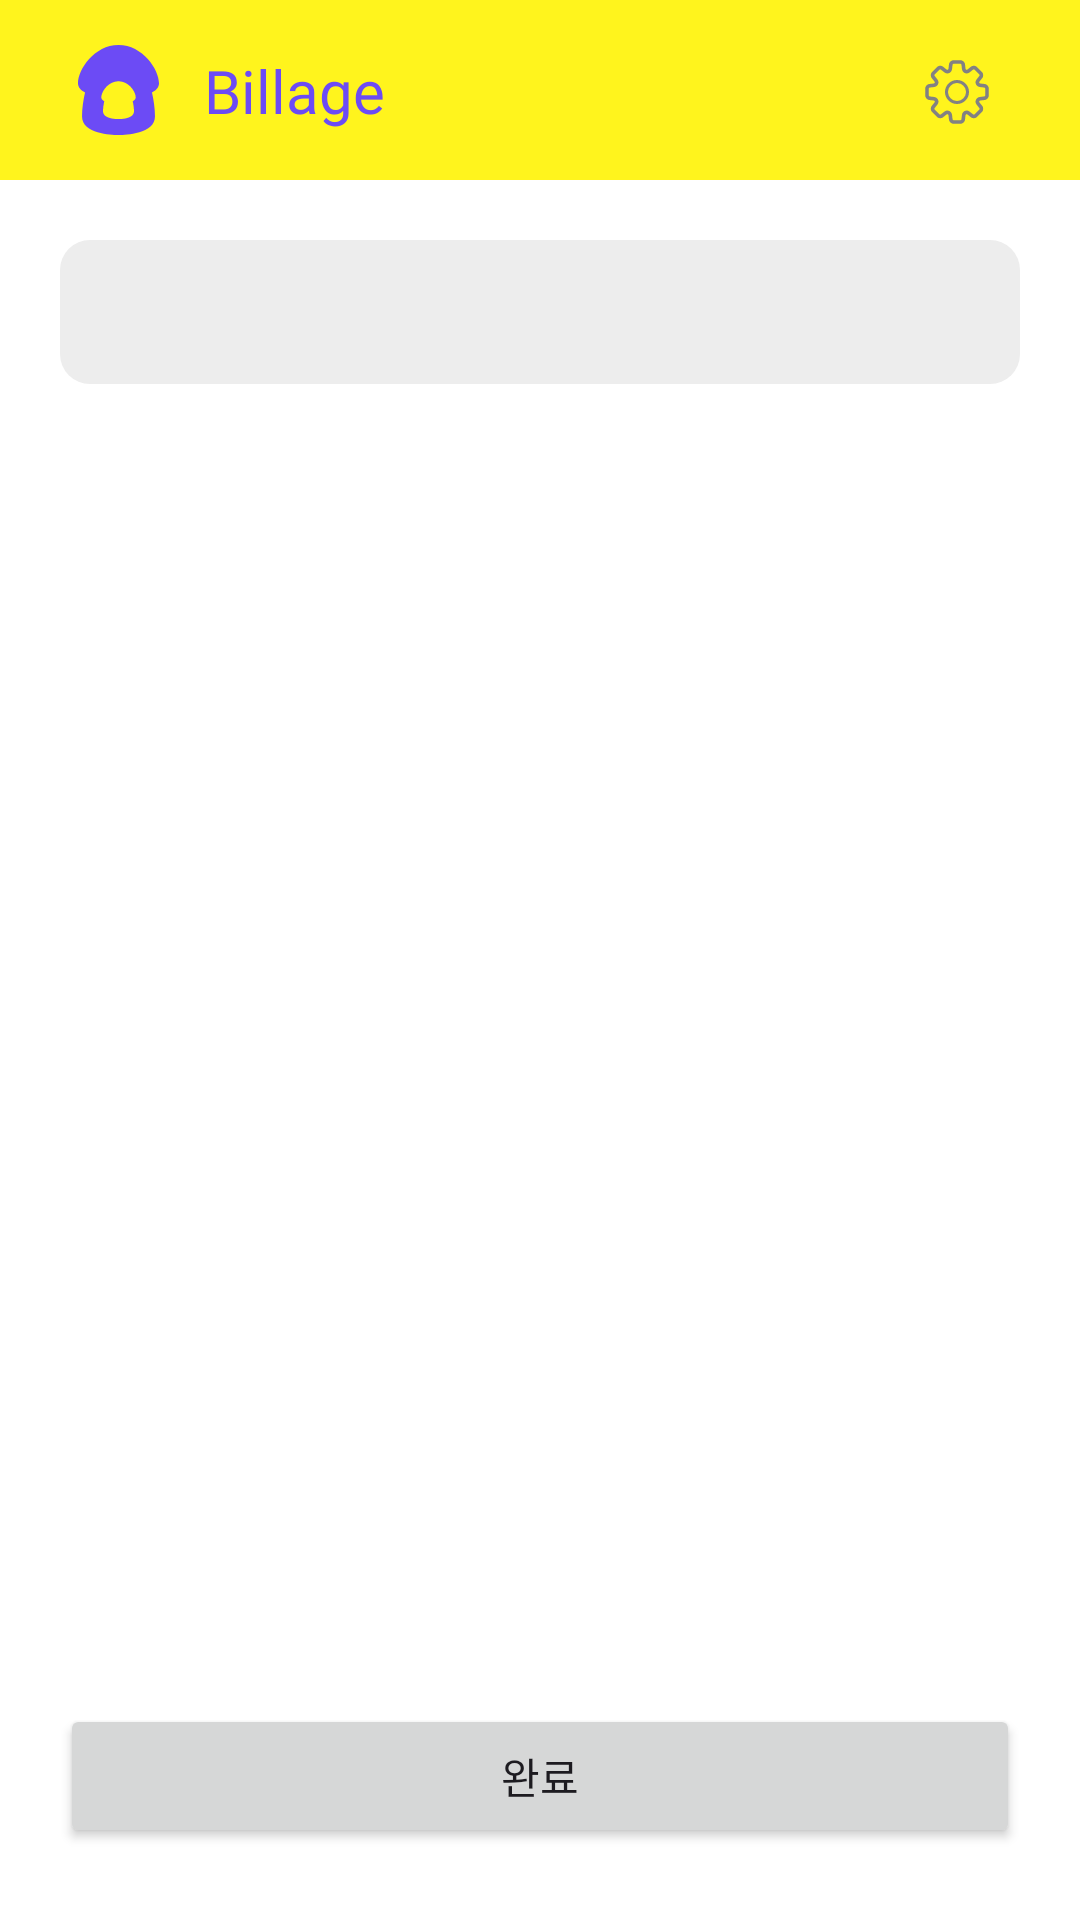

Where icons sit on this 1080*1920 app screen, as box(x1, y1, x2, y2):
setting: box(925, 60, 989, 124)
